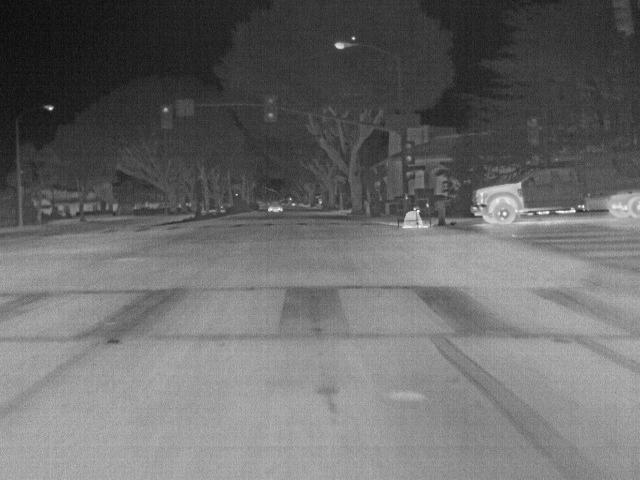car: (469, 165, 639, 225), (605, 190, 639, 220), (266, 199, 282, 213)
person: (403, 206, 421, 227)
